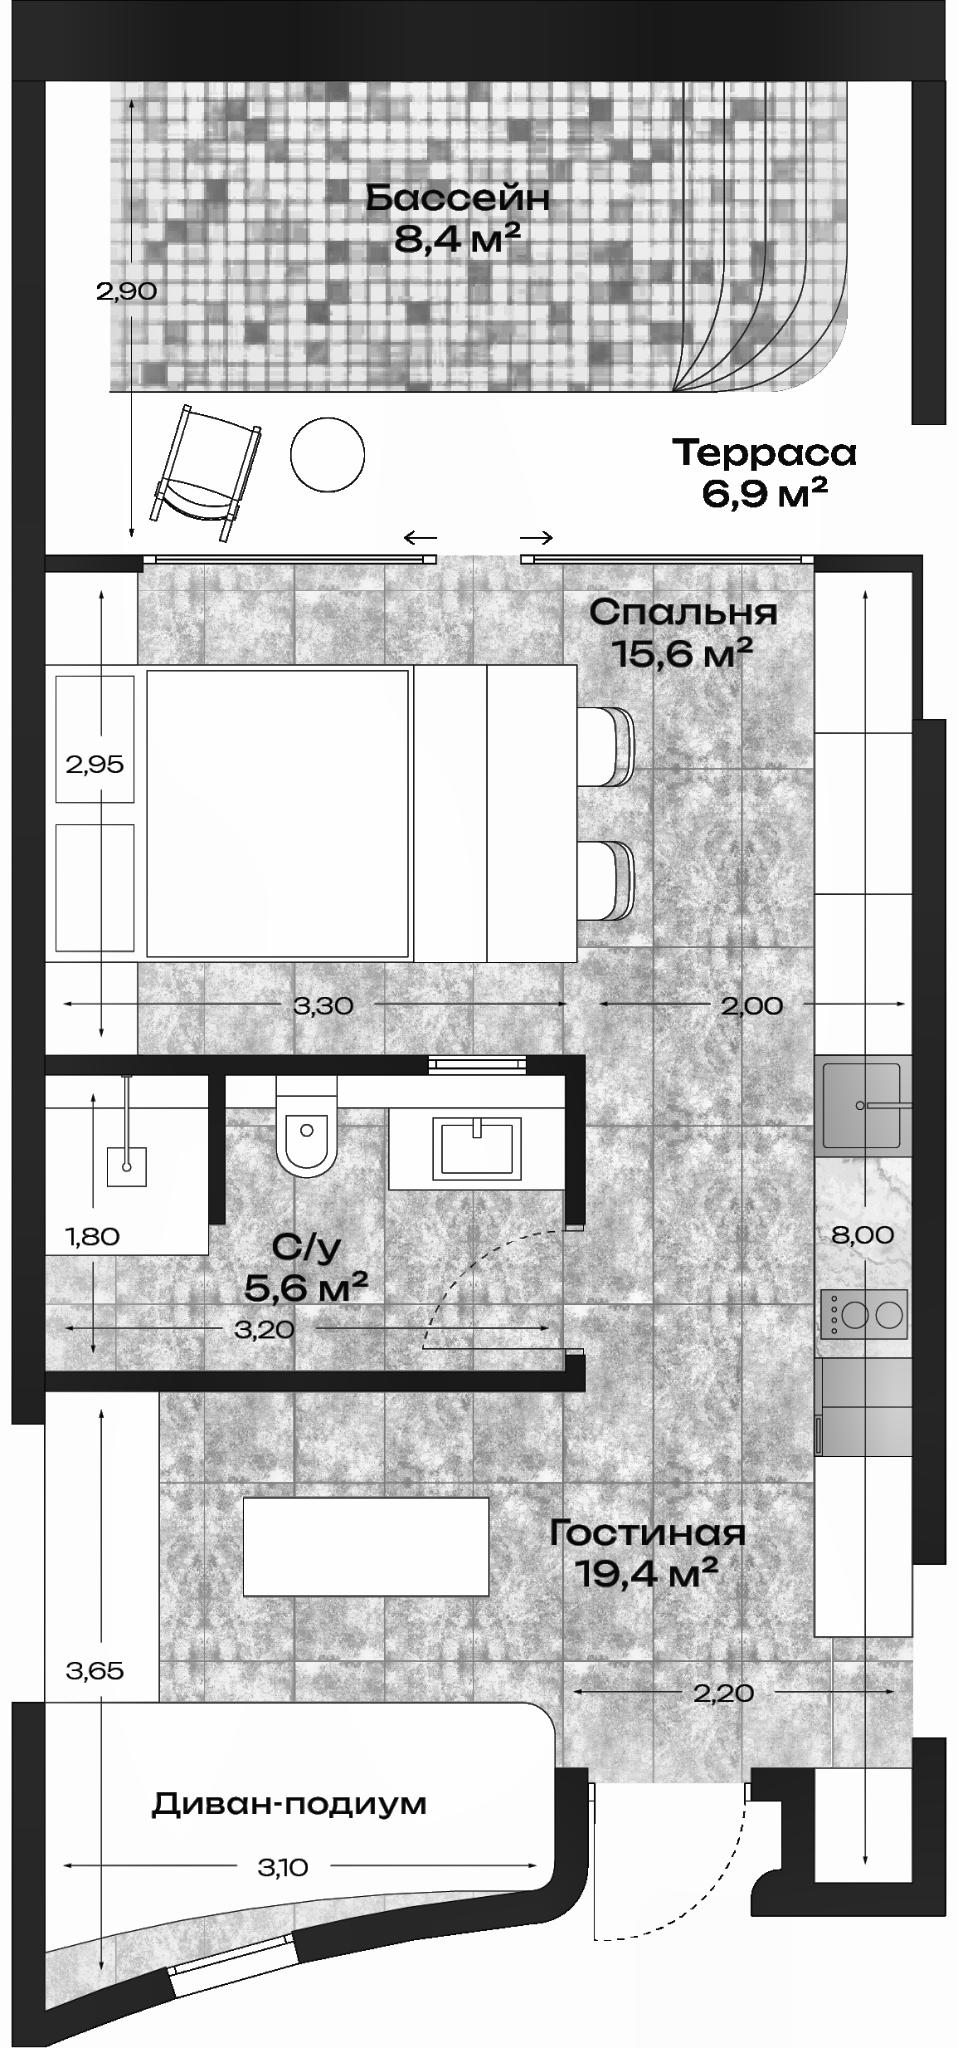door: (133, 522, 819, 594), (588, 1768, 750, 1951), (418, 1219, 589, 1361)
window: (3, 1405, 64, 1727), (159, 1923, 312, 2014), (904, 1540, 955, 1762)
